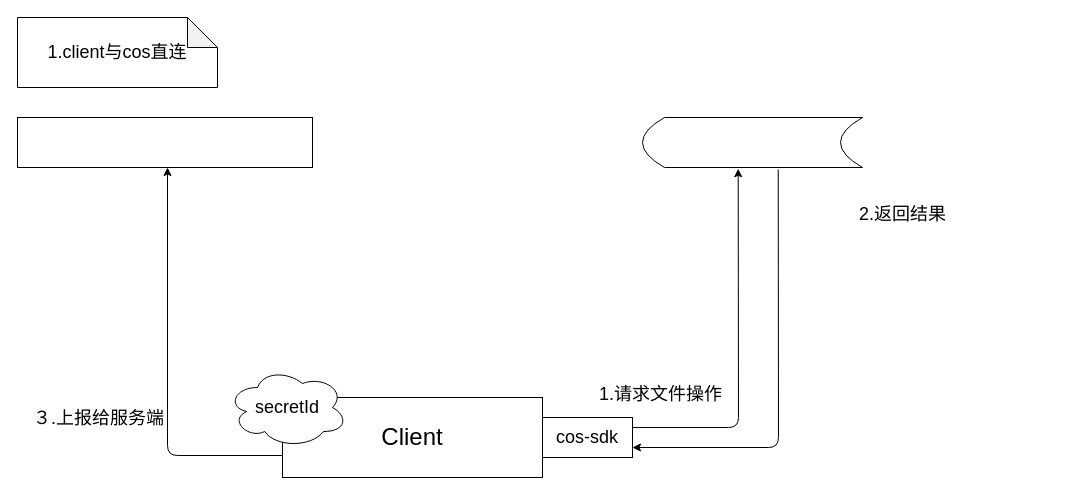
Some shapes in this 1085 by 495 pixel diagram are drawn without their labels. Here are the shapes that lost their labels. From the top down, the centre of each, then its label:
(164,142): Server
(752,142): COS
